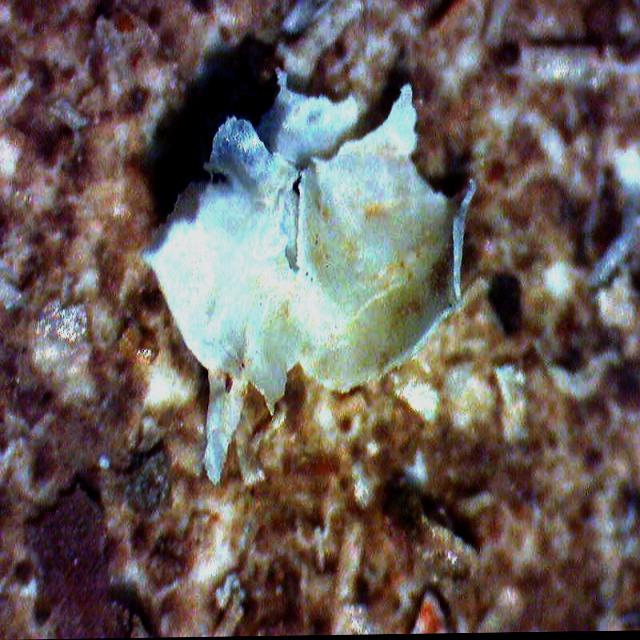microplastic: (41, 14, 540, 492)
